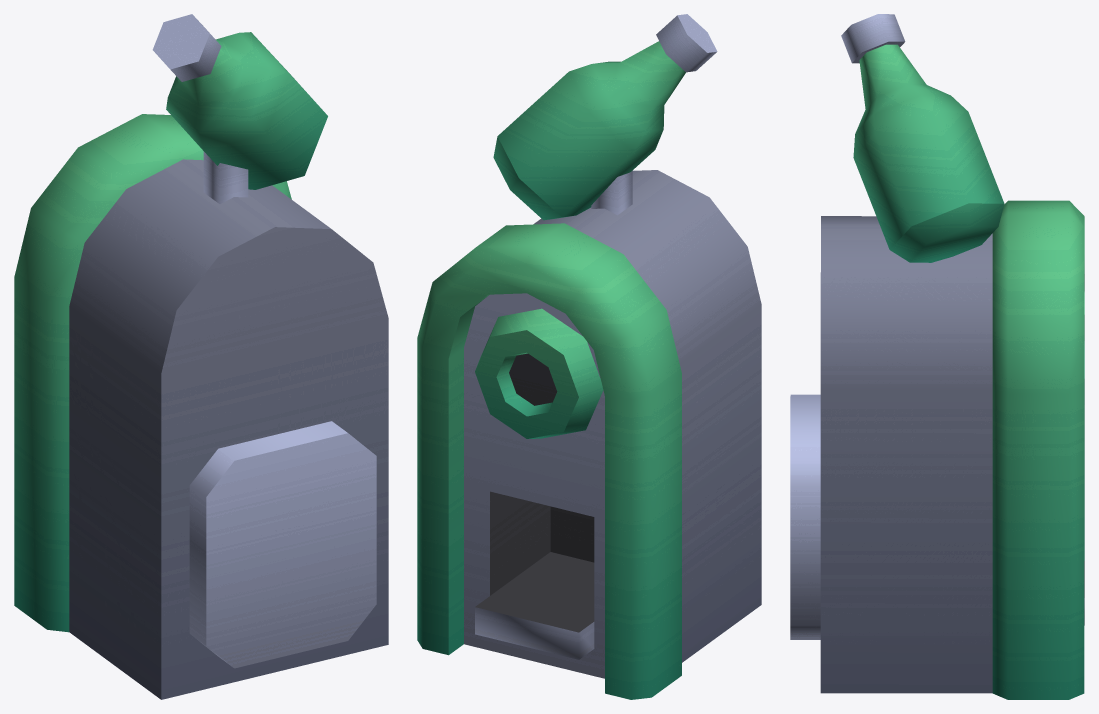
The model's file is bottle-return.001_lev2.glb.
3 views of the same model, side by side, from view 1: azimuth 30°, elevation 25°; view 2: azimuth 150°, elevation 25°; view 3: azimuth 270°, elevation 25° (orthographic). The views are drawn at different scales.
Visible parts, largest first — view 1: bottle-return.001_lev2; view 2: bottle-return.001_lev2; view 3: bottle-return.001_lev2.
Part boxes in pixels (x1,y1,x2,y2): bottle-return.001_lev2: [14, 14, 388, 699]; bottle-return.001_lev2: [417, 14, 761, 699]; bottle-return.001_lev2: [790, 14, 1084, 699].
Bounding box in the file's own units: 1.8 × 4.37 × 1.93.
Materials: 1 (1 with a texture image).
